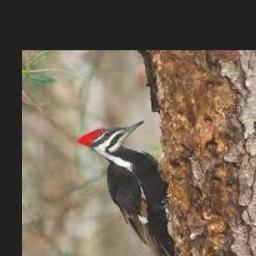Woodpecker: (78, 121, 176, 256)
